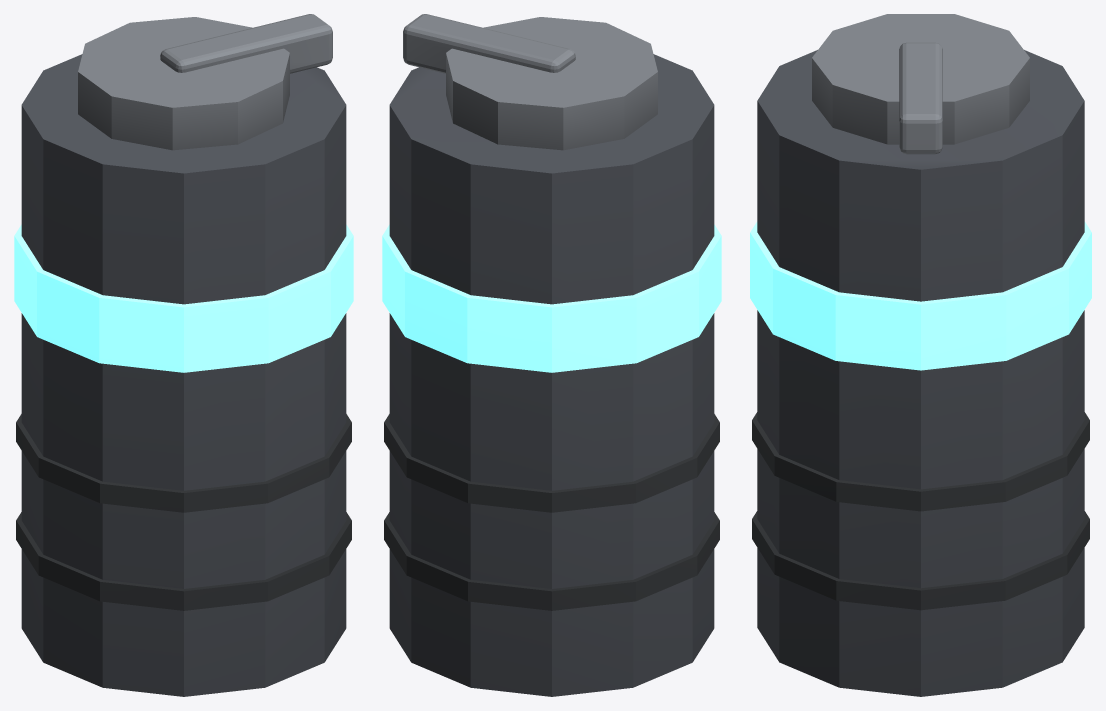
File: smoke_canister.glb
3 views of the same model, side by side, from view 1: azimuth 30°, elevation 25°; view 2: azimuth 150°, elevation 25°; view 3: azimuth 270°, elevation 25° (orthographic).
Visible parts, largest first — view 1: smoke_canister; view 2: smoke_canister; view 3: smoke_canister.
Part boxes in pixels (box(x1,y1,x2,y2)): smoke_canister: box(14, 14, 353, 696); smoke_canister: box(382, 14, 721, 696); smoke_canister: box(750, 14, 1091, 696).
Bounding box in the file's own units: 0.094 × 0.176 × 0.094.
